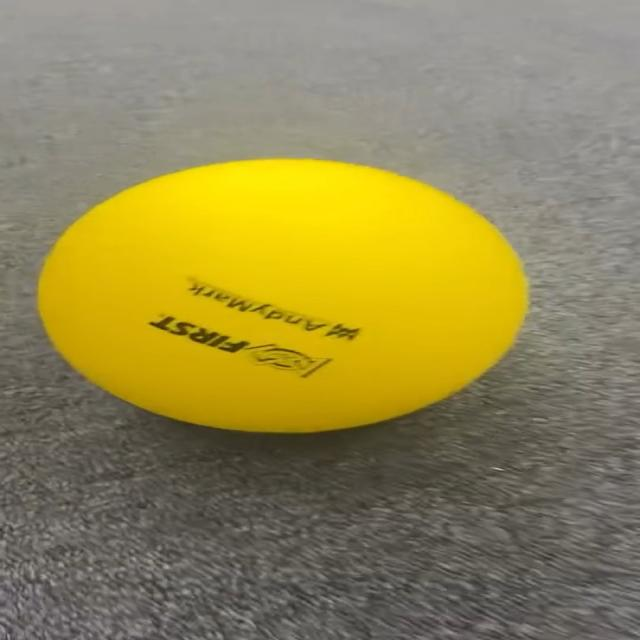Fuels: (39, 160, 528, 428)
